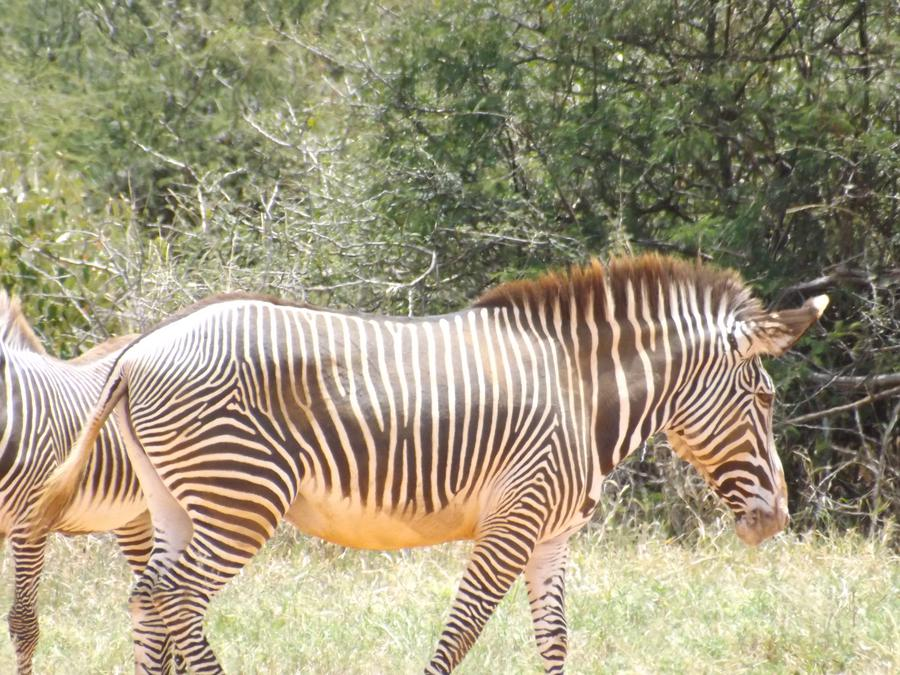zebra_grevys: (126, 291, 587, 526)
